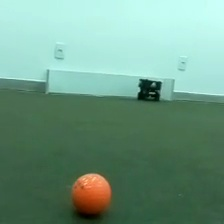ball: (68, 170, 115, 217)
goal: (43, 66, 176, 102)
robot: (136, 77, 163, 103)
